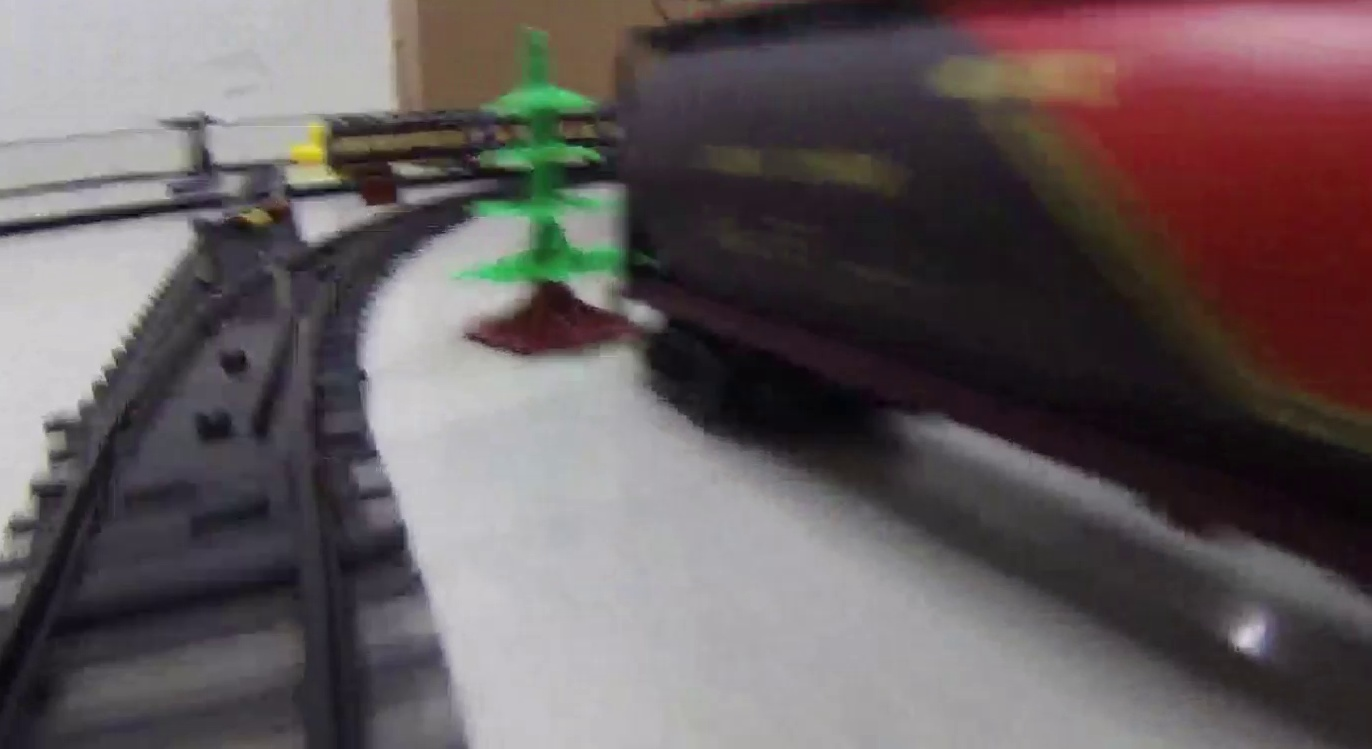tree: (456, 28, 628, 347)
